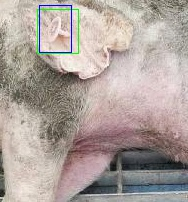text: (37, 9, 78, 53)
